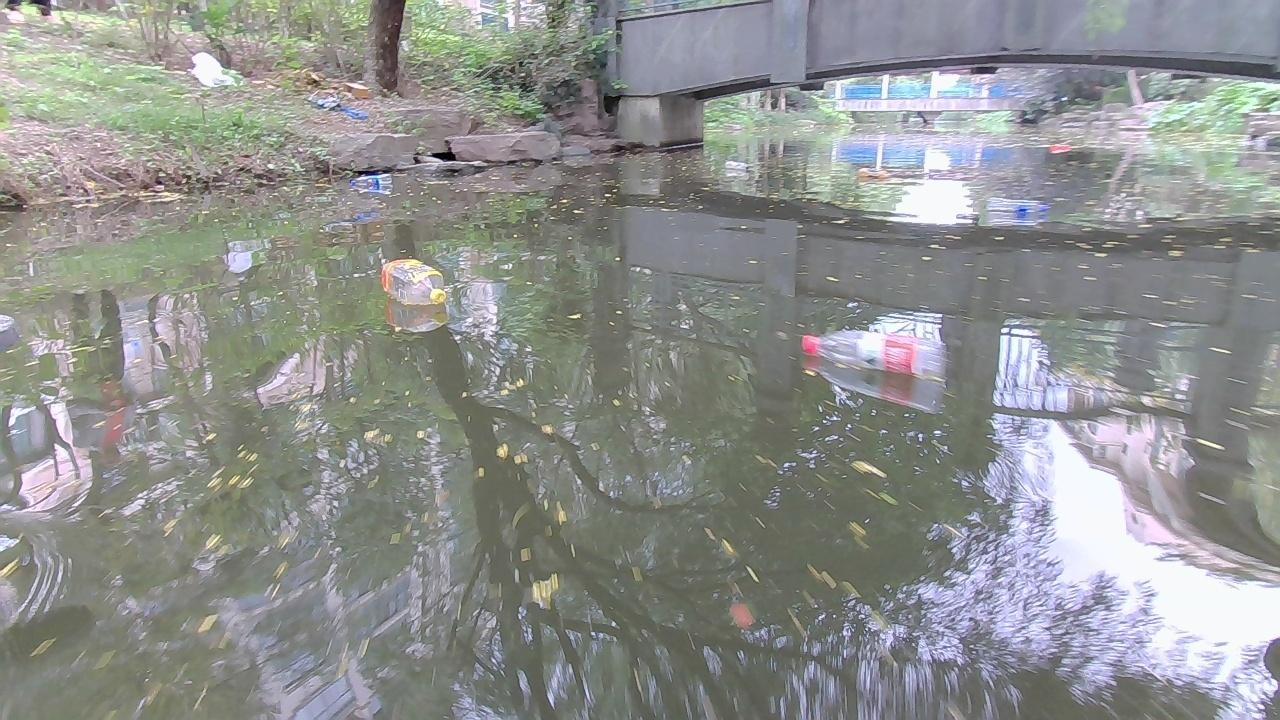bottle: (794, 323, 953, 388), (375, 254, 447, 307), (984, 196, 1051, 217), (348, 175, 398, 190), (853, 164, 890, 181), (1048, 141, 1076, 154), (721, 159, 748, 169)
